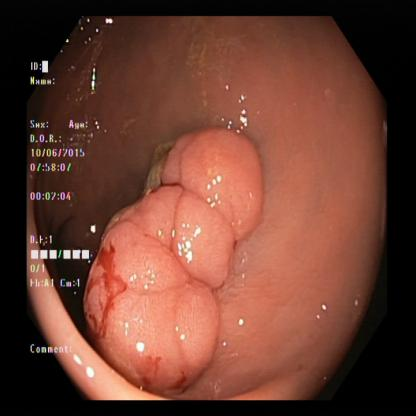Labels: (27, 60, 83, 358)
Polyps: (95, 210, 224, 378), (157, 131, 268, 220)
